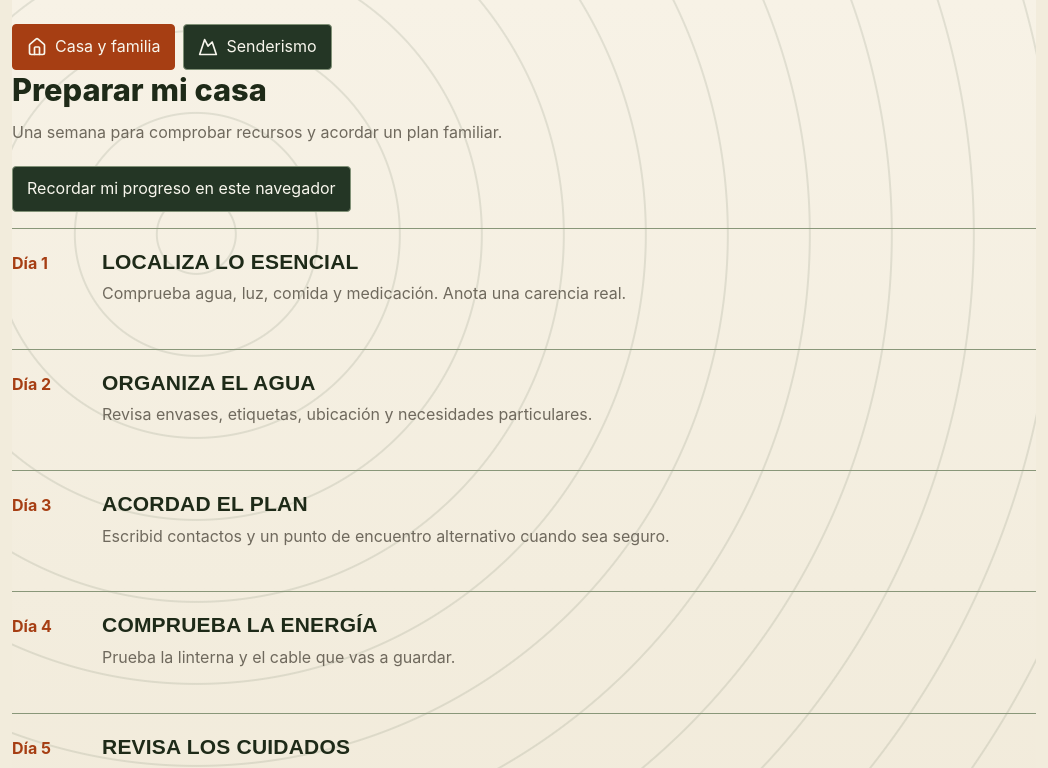
reader retention without a tracking account › only persists progress after activation and does not mix the two routes
Click the button "Recordar mi progreso en este navegador": (181, 189) [12,166,350,212]
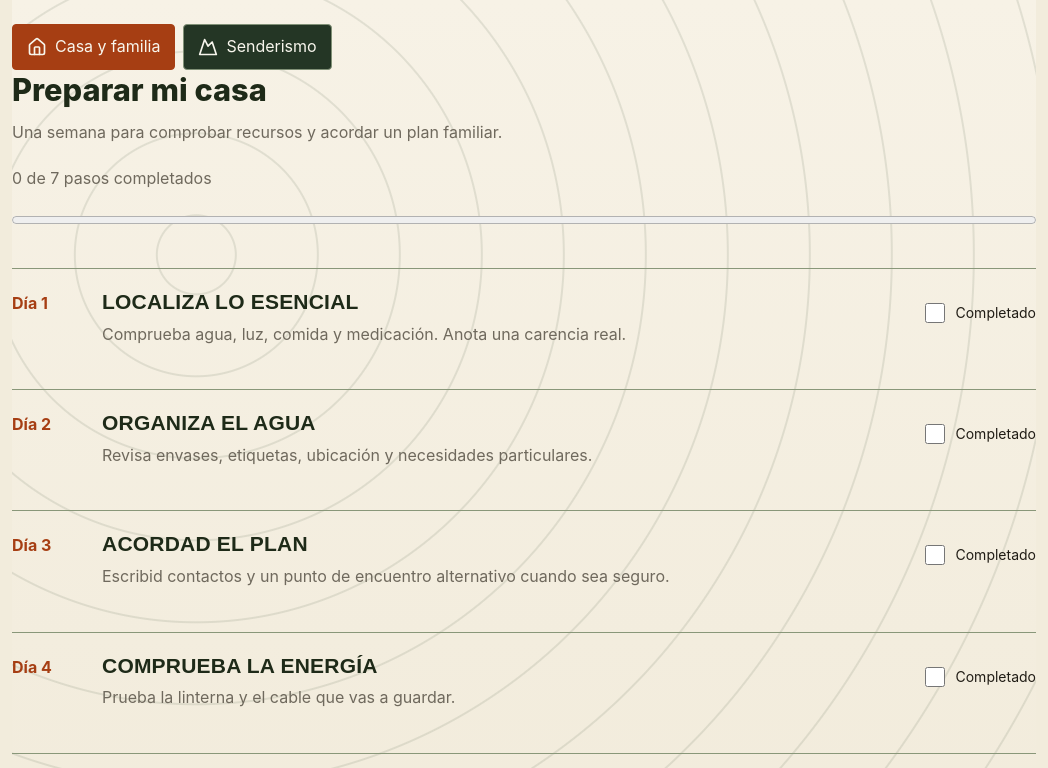
Click the checkbox labelled "Completado" in the row of "Localiza lo esencial": (934, 313) [924,303,944,323]
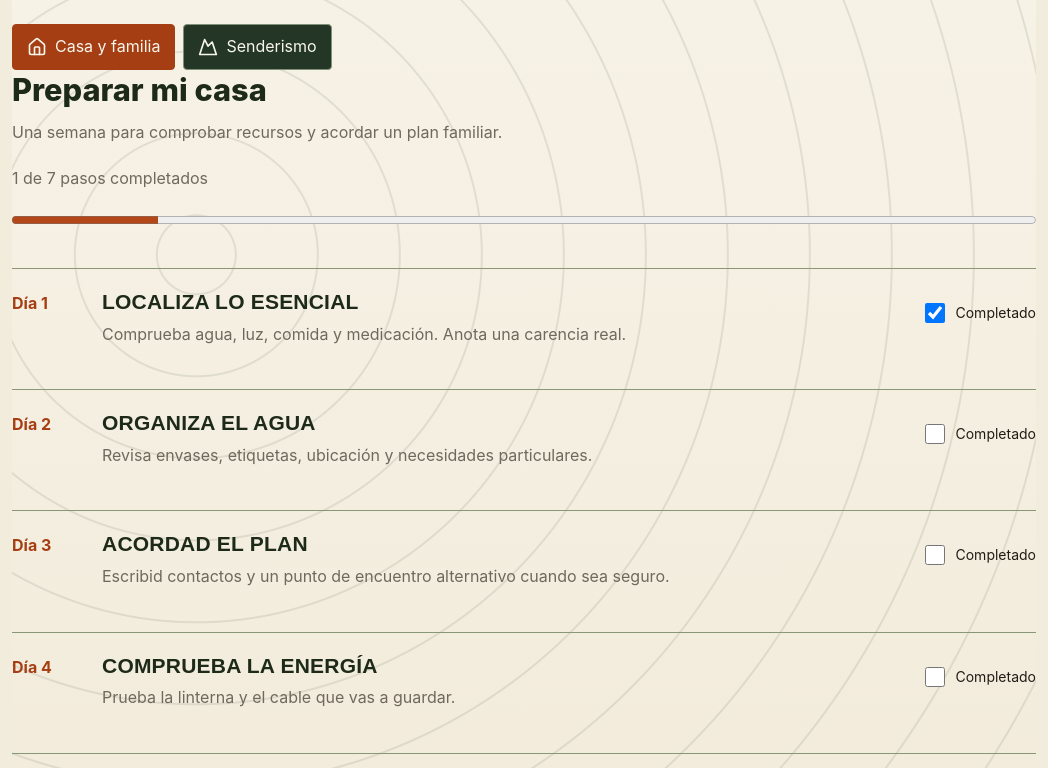
Click the button "Senderismo": (258, 47) [183,24,332,70]
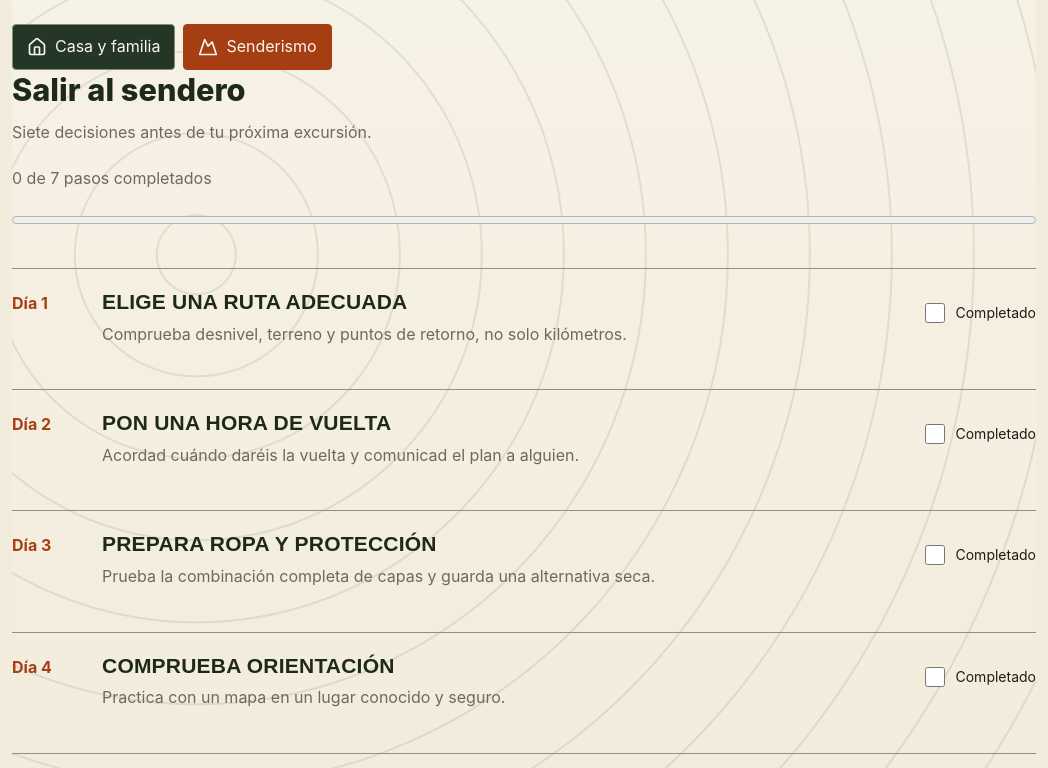
Expected: the progress indicator holds "0", [12,212,1036,228]
Expected: the checkbox labelled "Completado" in the row of "Elige una ruta adecuada" is not checked, [924,303,944,323]
